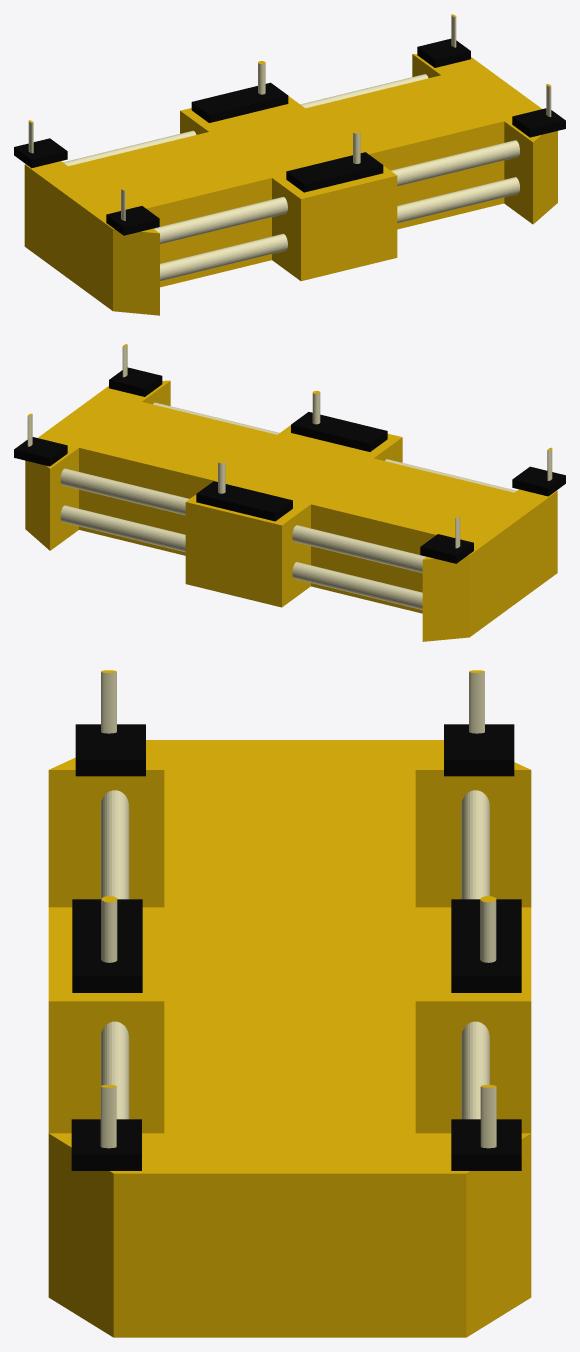
3 renders of one model, top to bottom at view 1: azimuth 30°, elevation 25°; view 2: azimuth 150°, elevation 25°; view 3: azimuth 270°, elevation 25°, orthographic. The views are drawn at different scales.
Visible parts, largest first — view 1: Cube; view 2: Cube; view 3: Cube.
Part boxes in pixels (x1,y1,x2,y2): Cube: (14, 14, 565, 315); Cube: (14, 344, 565, 641); Cube: (48, 670, 531, 1337).
Bounding box in the file's own units: 0.34 × 0.1598 × 0.0882.
